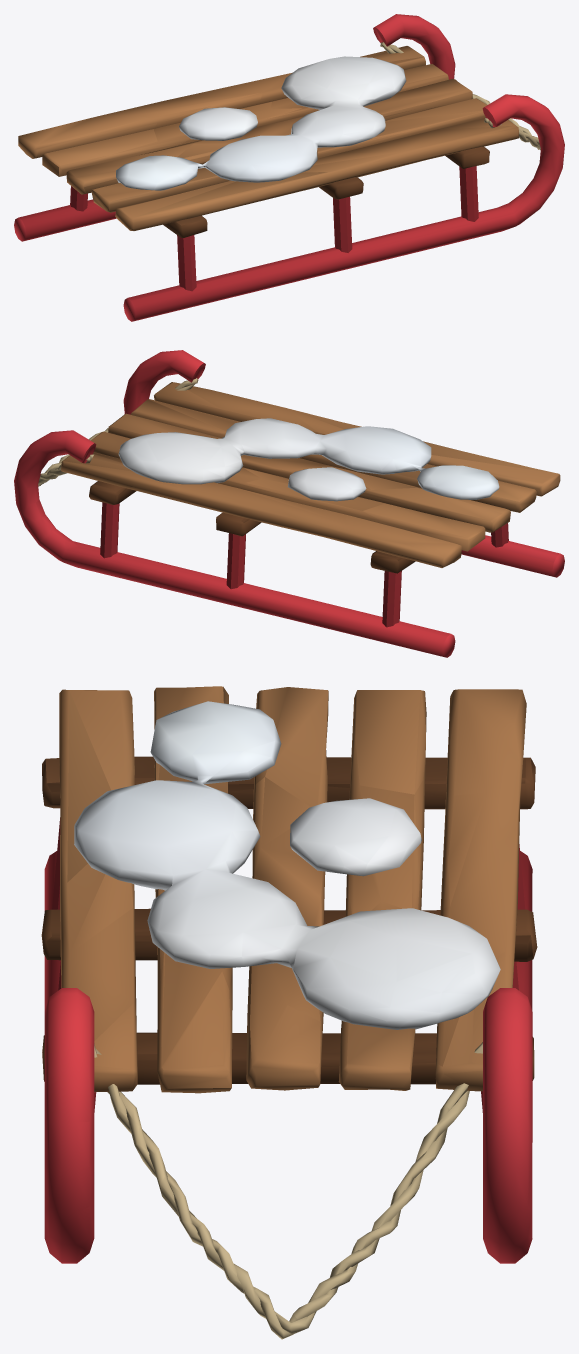
File: frost_toy_sled_lod1.glb
3 renders of one model, top to bottom at view 1: azimuth 30°, elevation 25°; view 2: azimuth 150°, elevation 25°; view 3: azimuth 270°, elevation 25°, orthographic. The views are drawn at different scales.
Parts seen in each view (by area): view 1: frost_toy_sled.001; view 2: frost_toy_sled.001; view 3: frost_toy_sled.001.
Boxes of the visible parts, x1,y1,x2,y2 form: frost_toy_sled.001: (14, 14, 564, 321); frost_toy_sled.001: (14, 350, 564, 657); frost_toy_sled.001: (41, 686, 537, 1339).
Bounding box in the file's own units: 9.87 × 2.6 × 4.41.
